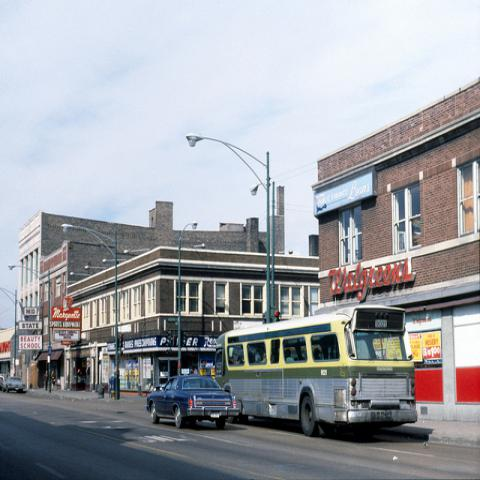bus: (220, 308, 421, 444)
car: (146, 376, 241, 430), (2, 376, 25, 392)
